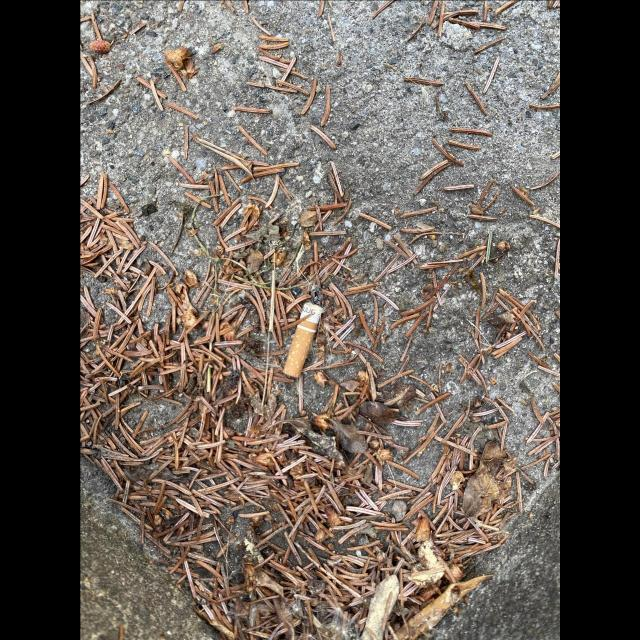cigarette: (282, 302, 324, 378)
